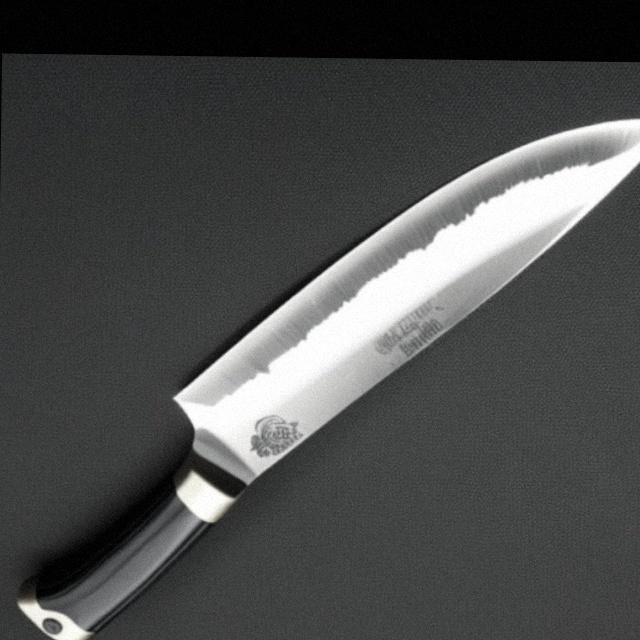Sharp-Object: (8, 105, 640, 640)
